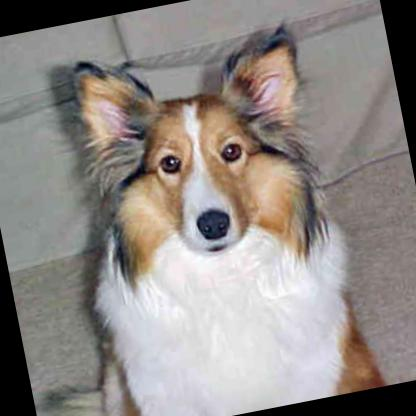Shetland_sheepdog: (0, 14, 383, 416)
